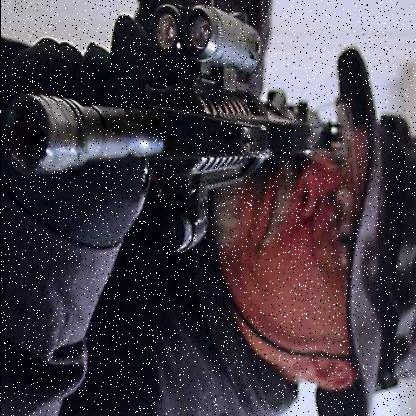rifle: (0, 0, 348, 277)
